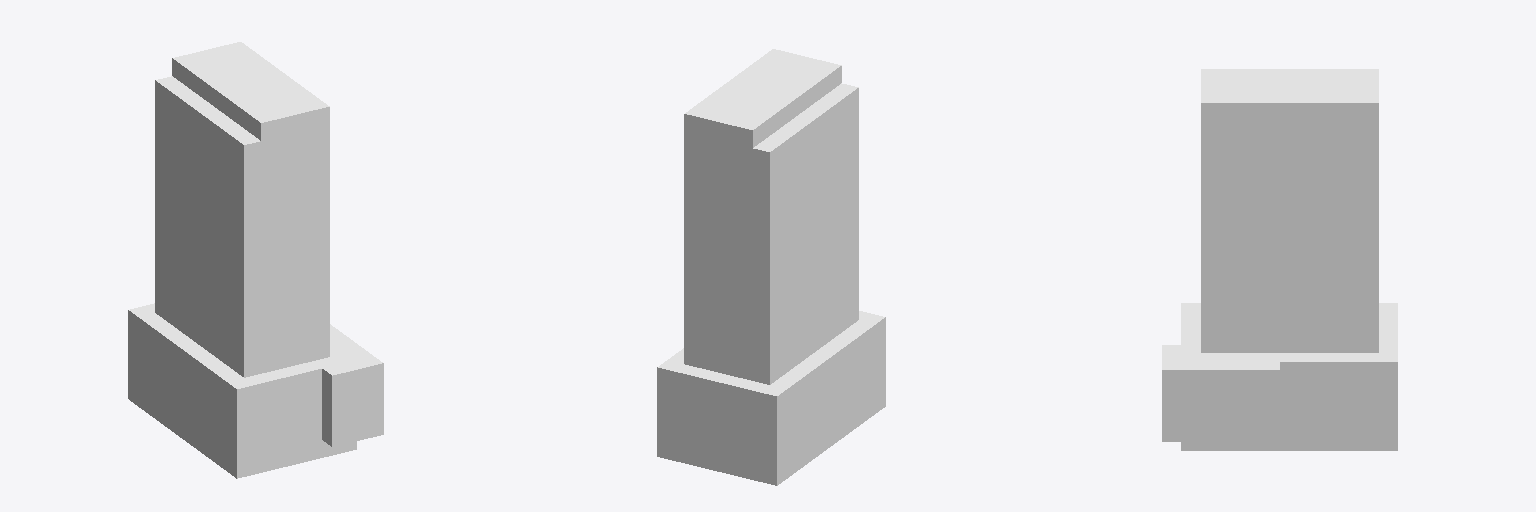
The model's file is bambooPanda-3.obj.
3 renders of one model, left to right at view 1: azimuth 30°, elevation 25°; view 2: azimuth 150°, elevation 25°; view 3: azimuth 270°, elevation 25°, orthographic.
Visible parts, largest first — view 1: object 1; view 2: object 1; view 3: object 1.
Boxes of the visible parts, <box> form: object 1: <box>128,42,383,478</box>; object 1: <box>657,49,885,485</box>; object 1: <box>1162,69,1397,450</box>.
Bounding box in the file's own units: 0.8 × 1.9 × 1.2.